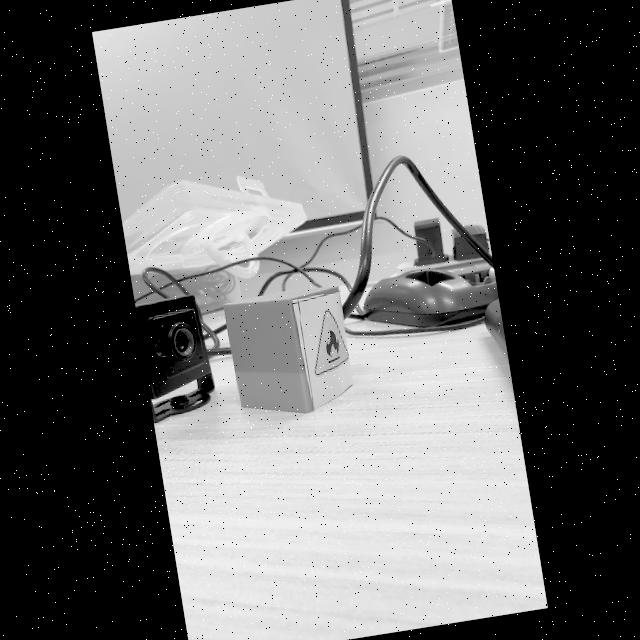Fire: (315, 310, 348, 376)
